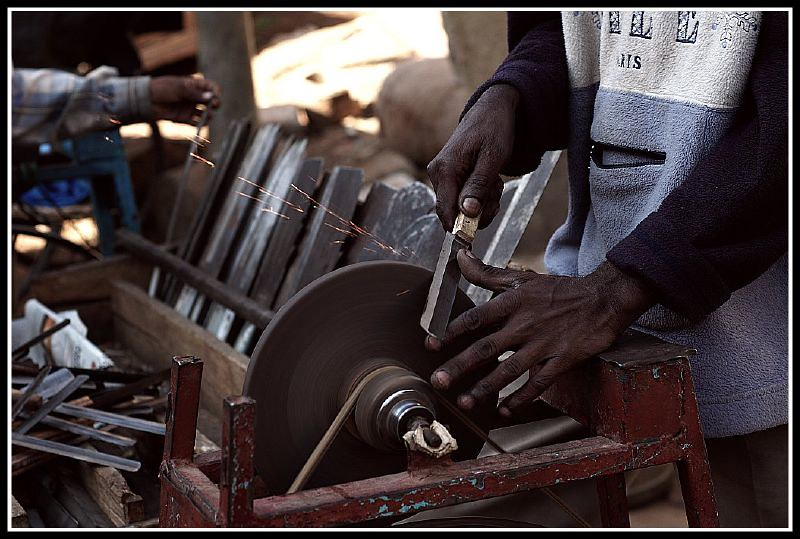knife: (403, 194, 509, 353)
